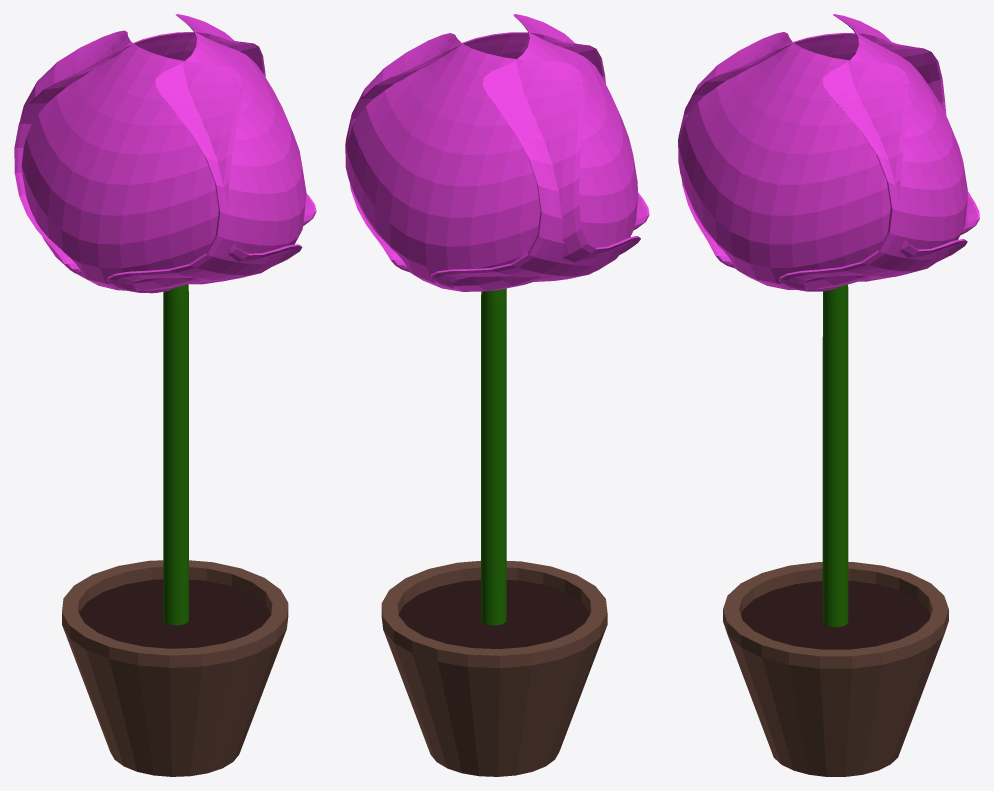
File: flower2.fbx
The picture shows the model from 3 angles, left to right: view 1: azimuth 30°, elevation 25°; view 2: azimuth 150°, elevation 25°; view 3: azimuth 270°, elevation 25°; orthographic projection.
Visible parts, largest first — view 1: 花瓣.002, 柱体; view 2: 花瓣.002, 柱体; view 3: 花瓣.002, 柱体.
Boxes of the visible parts, x1=… form: 花瓣.002: x1=14, y1=14, x2=316, y2=625; 柱体: x1=62, y1=560, x2=288, y2=776; 花瓣.002: x1=345, y1=14, x2=649, y2=625; 柱体: x1=381, y1=560, x2=607, y2=776; 花瓣.002: x1=678, y1=14, x2=979, y2=626; 柱体: x1=723, y1=562, x2=948, y2=776.
Bounding box in the file's own units: 155 × 417 × 163.
